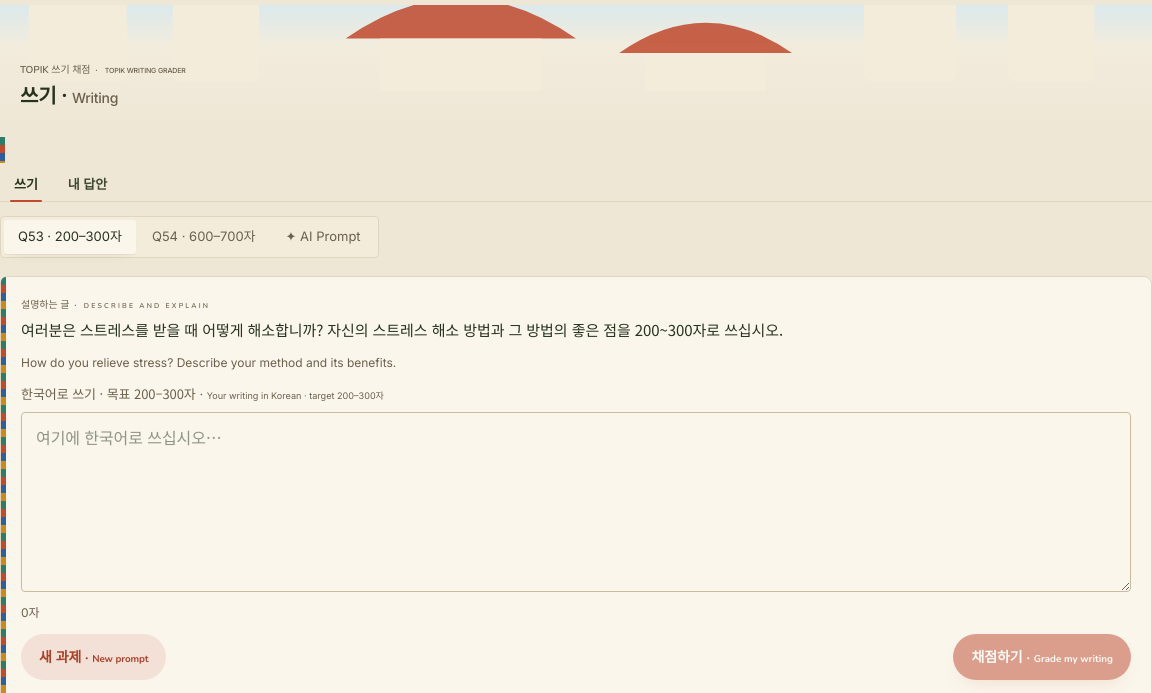
Writing › falls back to the fixed wait copy on a 429 without retryAfter
Check: the text "스트레스 해소 방법" is shown, box [21,318,783,340]
Type "안녕하세요" into the text box labelled "Your writing in Korean" at (576,502), box [21,412,1131,592]
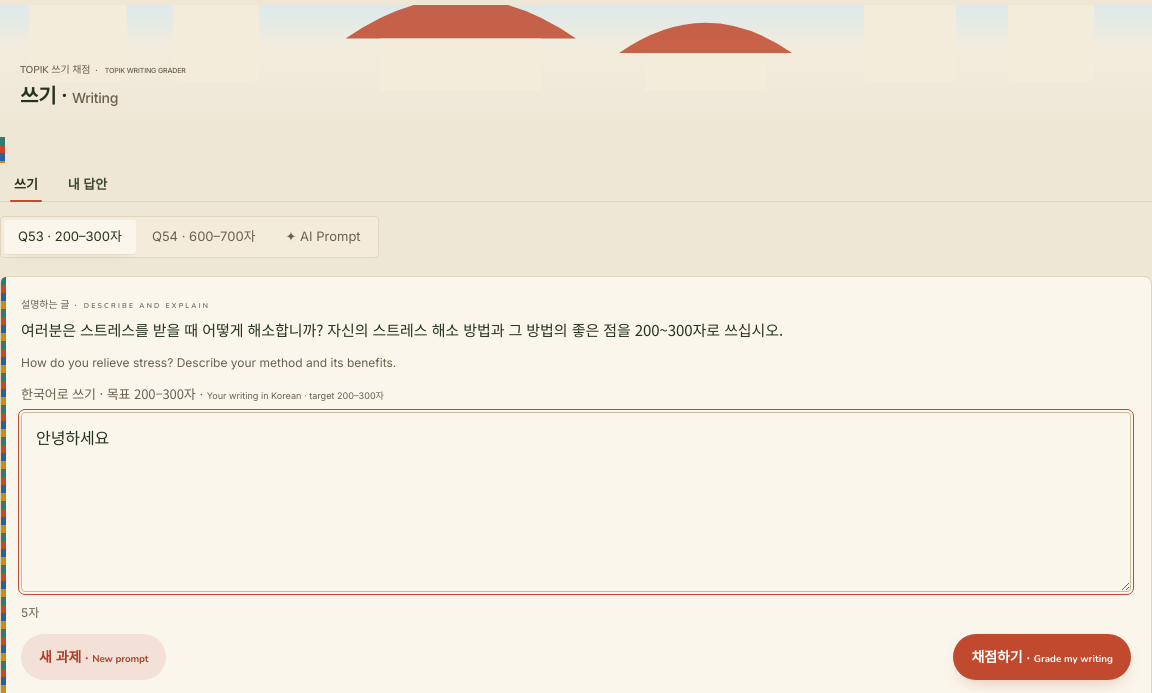
Click the button "채점하기 · Grade my writing" at (1042,657), box [953,634,1131,680]
(page scrolled)
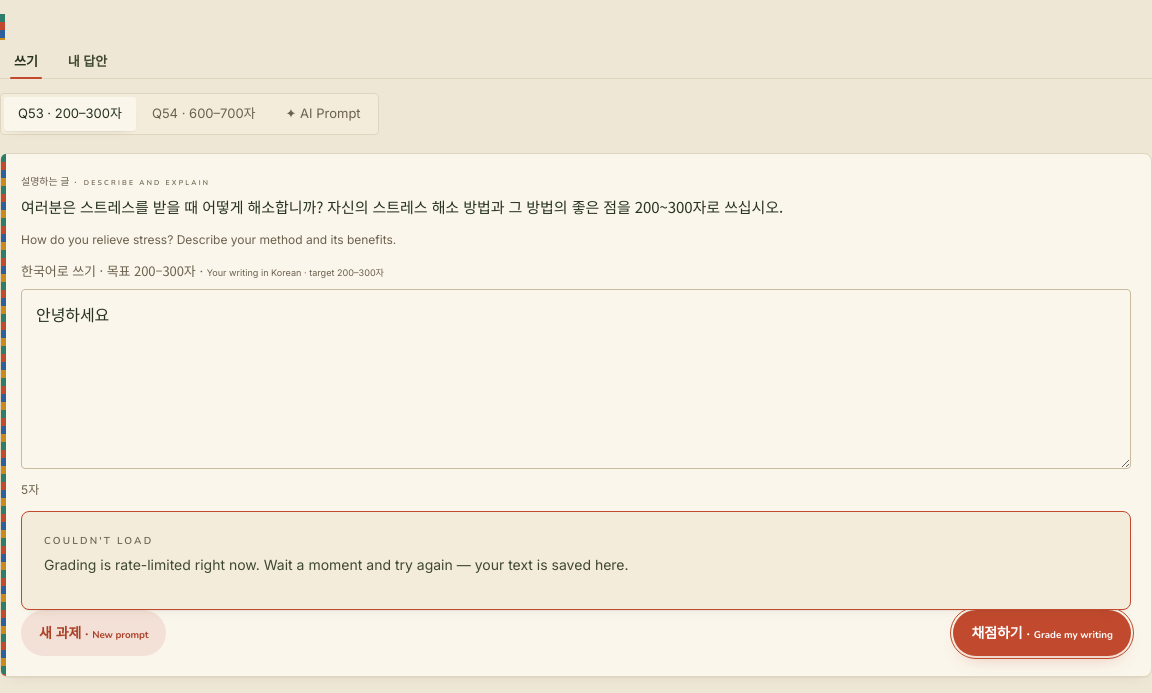
Check: the message does not show "seconds", box [21,511,1131,610]
Check: the message shows "rate-limited right now", box [44,556,629,573]
